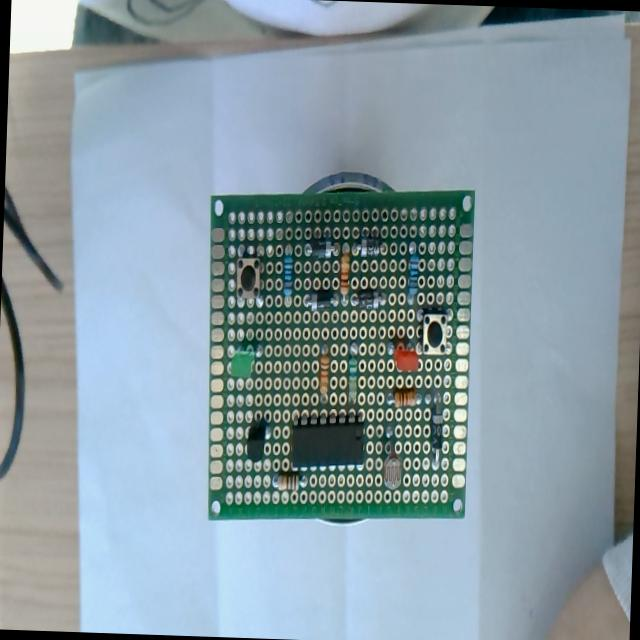IC: (286, 413, 367, 473)
cds: (382, 440, 402, 491)
diode: (429, 402, 444, 465), (305, 286, 338, 312), (352, 288, 384, 311), (307, 237, 336, 260), (358, 236, 384, 258)
led: (226, 332, 259, 380), (388, 334, 421, 372)
resistor: (388, 388, 418, 408), (318, 348, 329, 397), (347, 357, 358, 405), (276, 472, 302, 492), (282, 253, 293, 296), (340, 253, 350, 295)
switch: (234, 248, 266, 304), (420, 310, 448, 354)
transistor: (244, 416, 270, 464), (406, 252, 419, 300)
